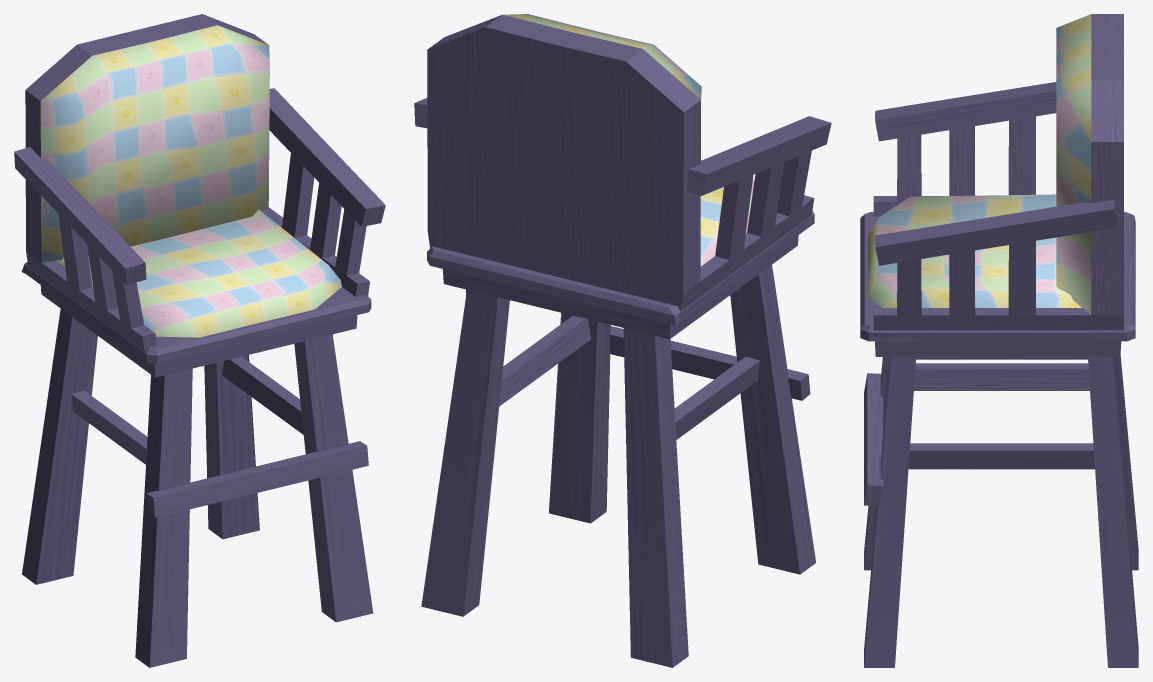
File: High_Chair_E.FBX
3 views of the same model, side by side, from view 1: azimuth 30°, elevation 25°; view 2: azimuth 150°, elevation 25°; view 3: azimuth 270°, elevation 25° (orthographic). The views are drawn at different scales.
Parts seen in each view (by area): view 1: High_Chair; view 2: High_Chair; view 3: High_Chair.
Boxes of the visible parts, <box> form: High_Chair: <box>14,14,385,667</box>; High_Chair: <box>414,14,831,667</box>; High_Chair: <box>860,14,1138,667</box>.
Size of the model in its own units: 139 by 268 by 120.
